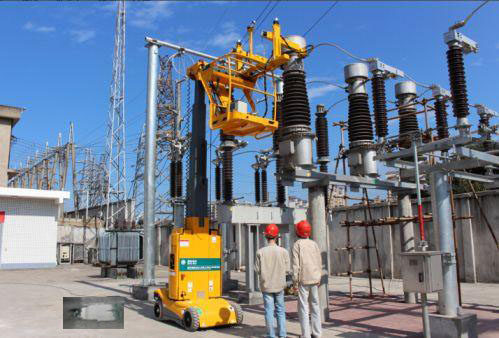oil: (64, 298, 124, 327)
